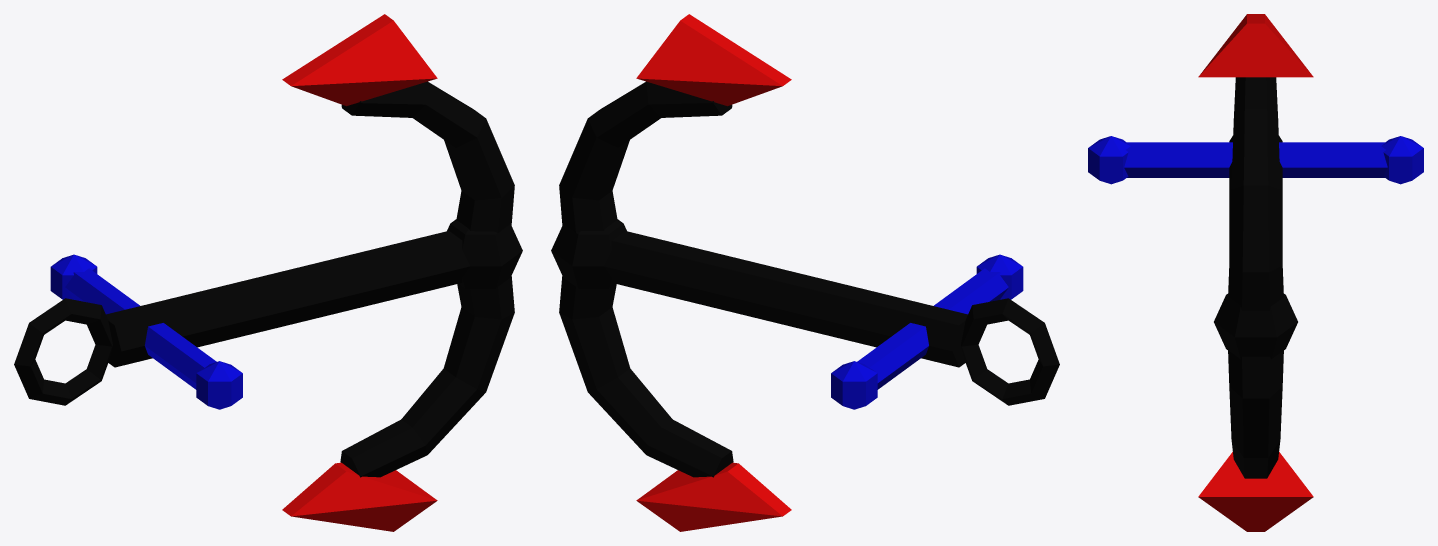
The model's file is SM_TN_Ancla.fbx.
3 views of the same model, side by side, from view 1: azimuth 30°, elevation 25°; view 2: azimuth 150°, elevation 25°; view 3: azimuth 270°, elevation 25° (orthographic).
Parts seen in each view (by area): view 1: SM_TN_Ancla; view 2: SM_TN_Ancla; view 3: SM_TN_Ancla.
Part boxes in pixels (<box>): SM_TN_Ancla: <box>14,14,522,531</box>; SM_TN_Ancla: <box>551,14,1059,531</box>; SM_TN_Ancla: <box>1088,14,1423,531</box>.
Bounding box in the file's own units: 25.7 × 25.2 × 15.08.
